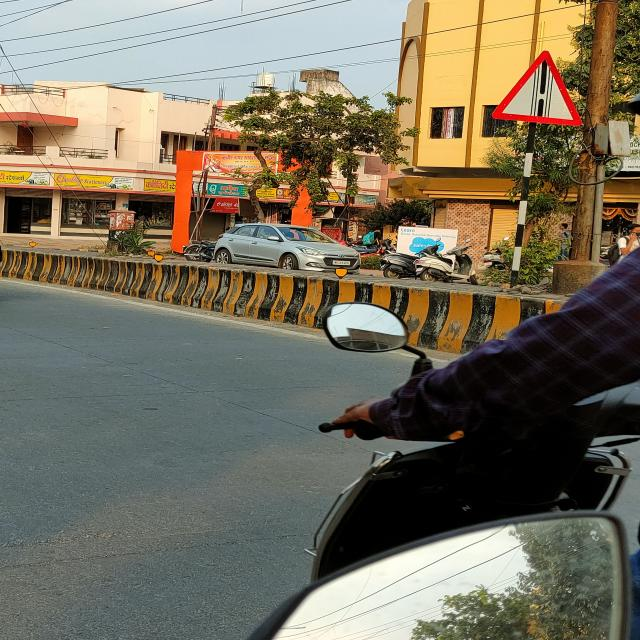ferry: (492, 49, 584, 126)
